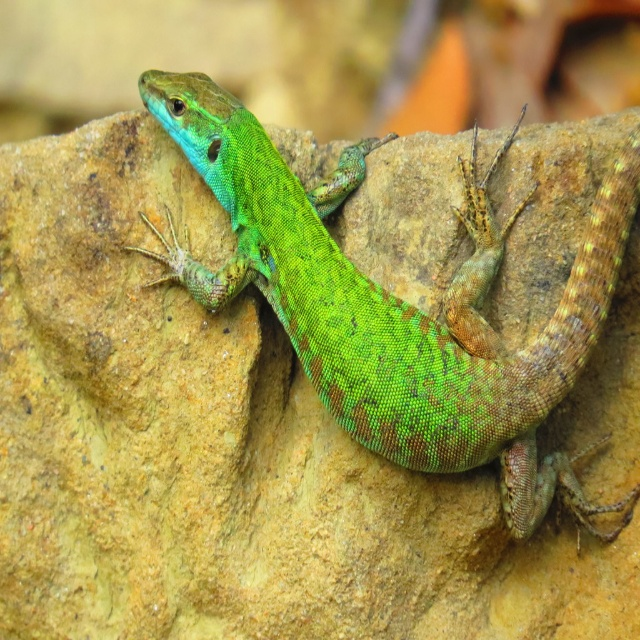Lizard: (122, 69, 640, 558)
